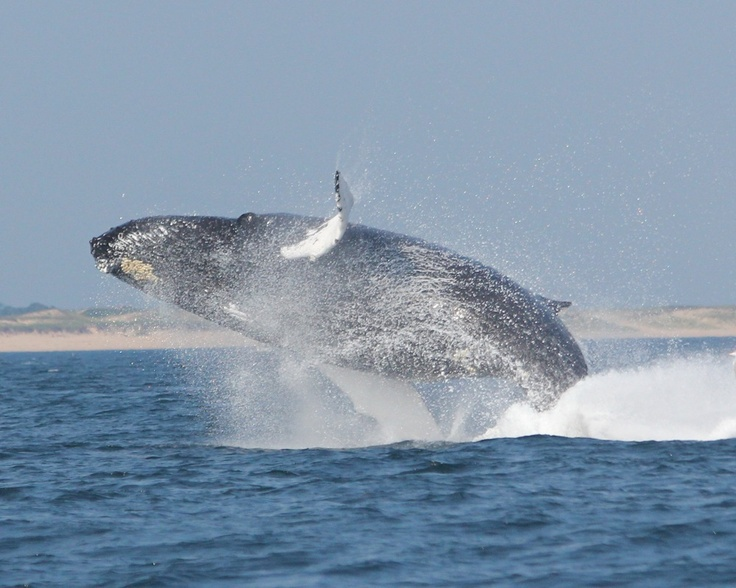humpback: (88, 217, 591, 432)
